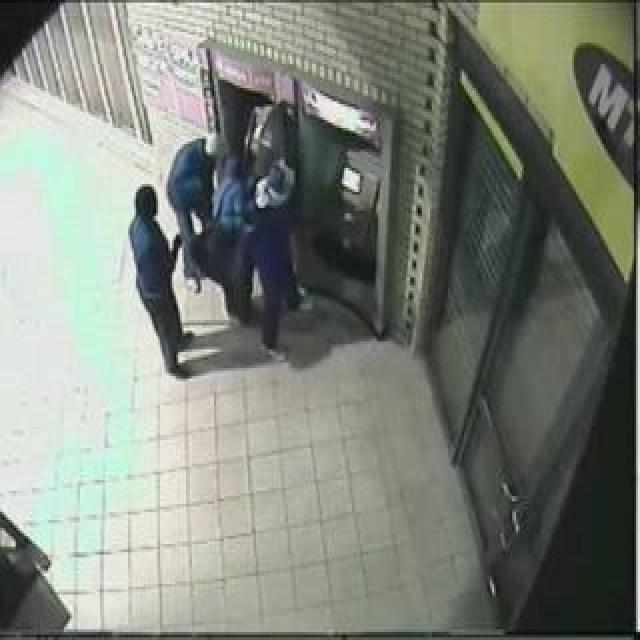thief: (114, 122, 308, 301)
